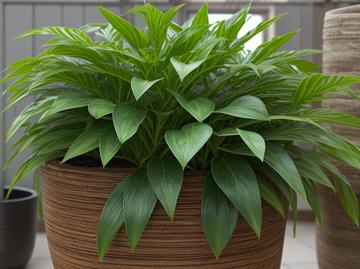pottedplant: (2, 2, 360, 269)
